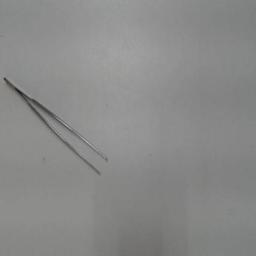Gillies Toothed Dissector: (2, 69, 116, 181)
